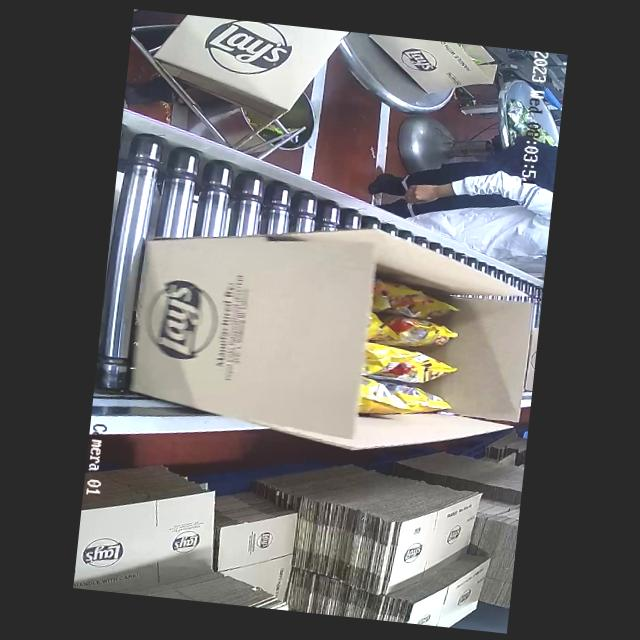salted: (322, 271, 476, 461)
